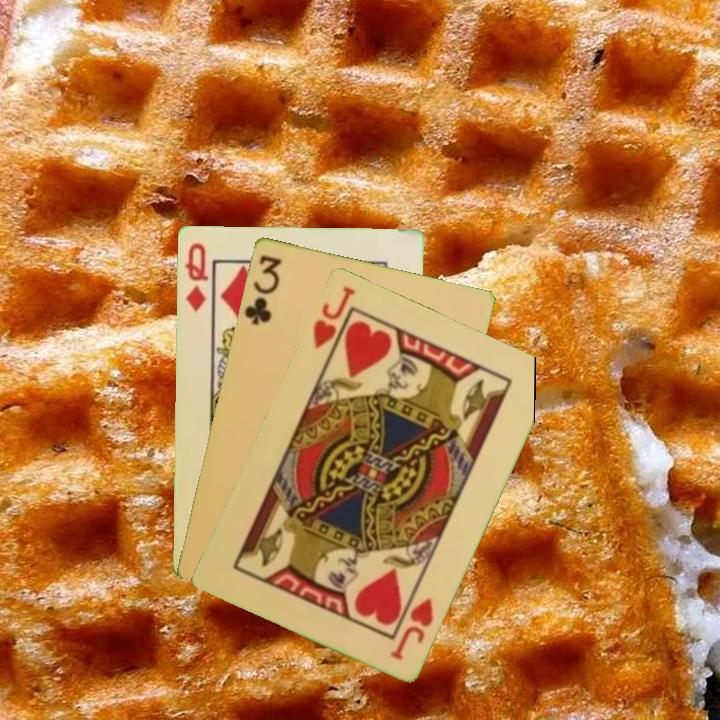3c: (240, 251, 284, 328)
Jh: (309, 281, 358, 364), (386, 593, 436, 663)
Qd: (180, 239, 210, 314)
